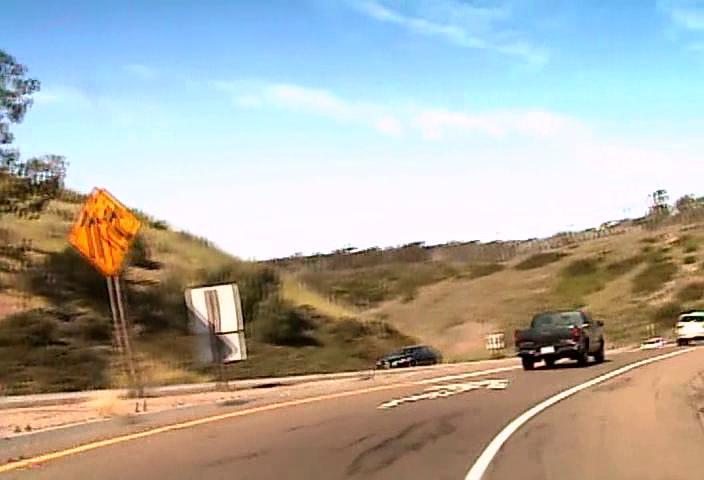addedLane: (66, 186, 142, 277)
